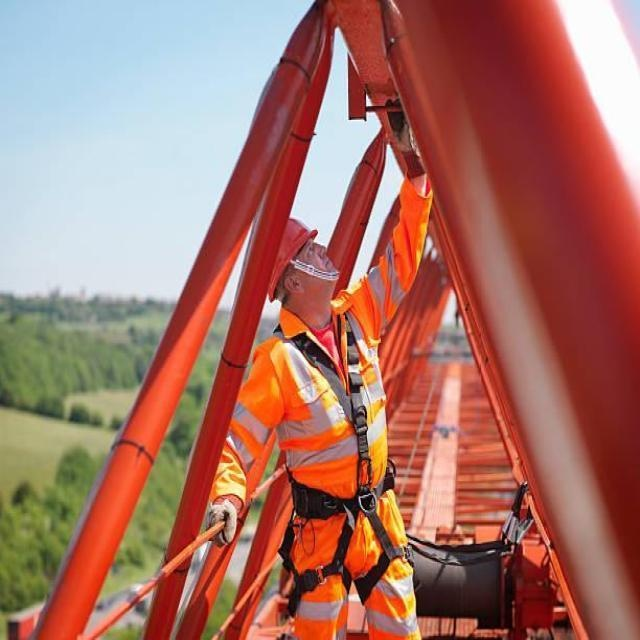Arnes_seguridad: (273, 308, 415, 618)
